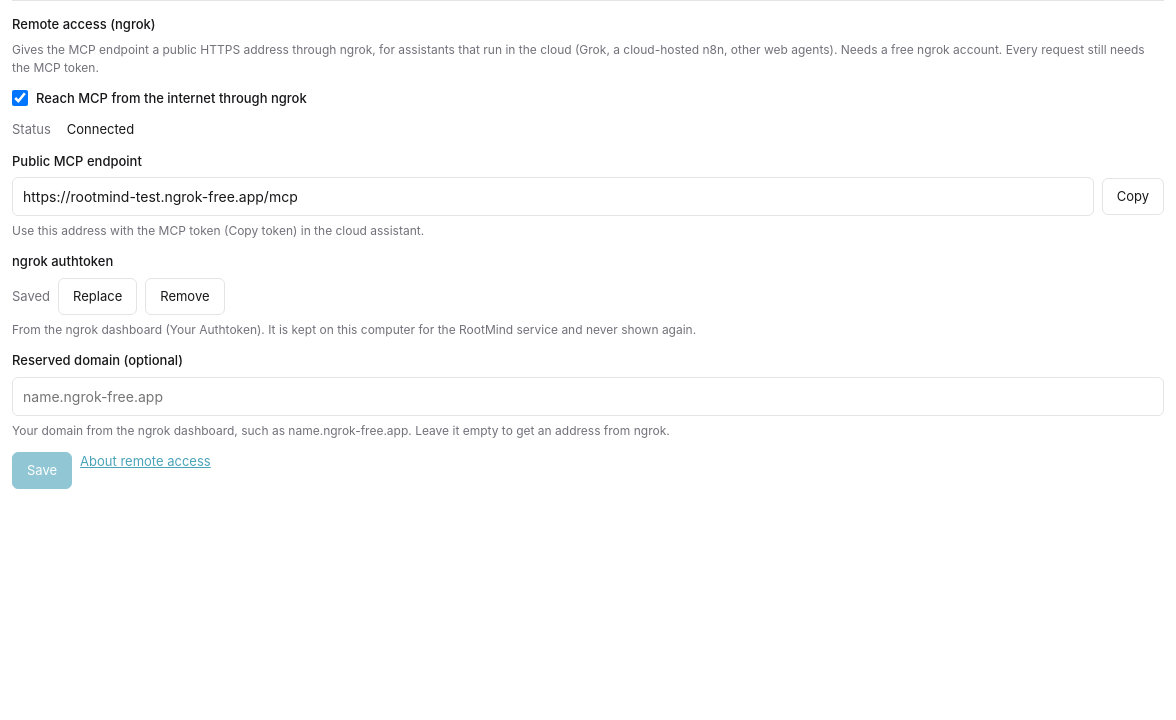
Test: RemoteAccess › shows the public MCP endpoint while connected and copies it
Click the button "Copy": (1133, 197) [1102, 178, 1164, 215]
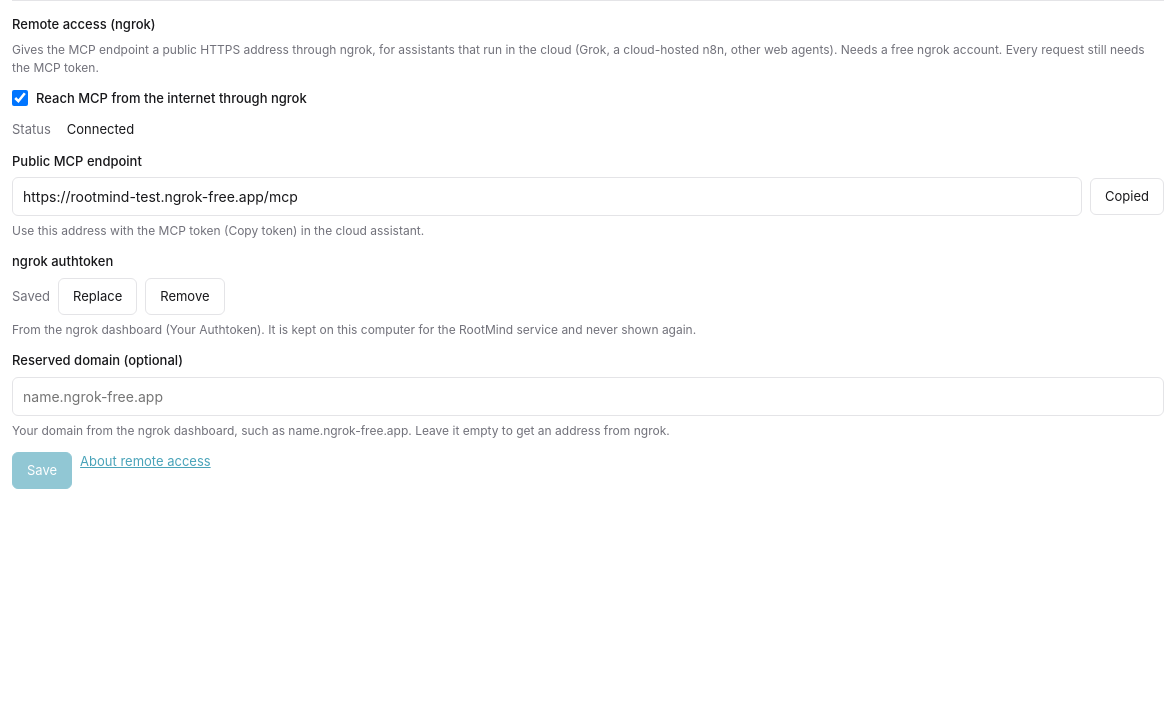
Now the button "Copied" is shown, box [1090, 178, 1164, 215]
